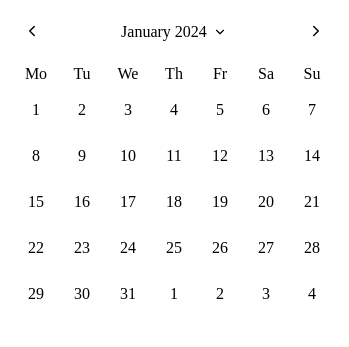
Calendar › year / month views › pages years twelve at a time and years one at a time in month view
The image size is (349, 347).
Click the button with aria-label "Choose year" at (174, 32), box [121,23,227,41]
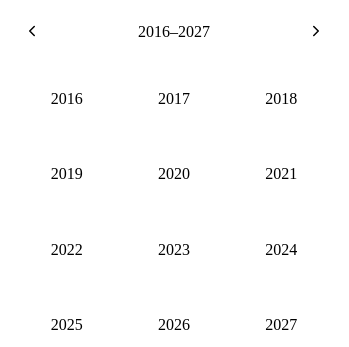
Click the button named "Next years" at (316, 32), box [300,16,332,48]
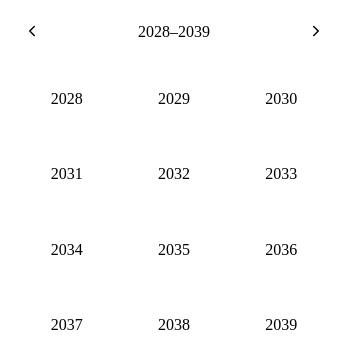
Check: the text "2028–2039" is shown, box [138,23,210,41]
Click the button named "Previous years" at (32, 32), box [16,16,48,48]
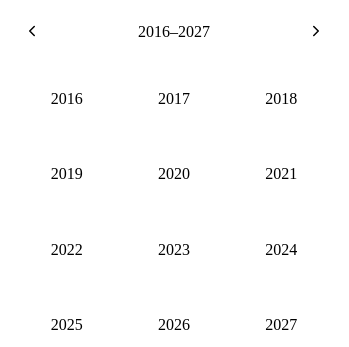
Check: the text "2016–2027" is shown, box [138,23,210,41]
Click the button "2024" at (281, 250), box [231,215,332,284]
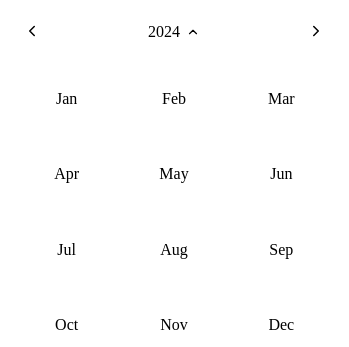
Click the button named "Next year" at (316, 32), box [300,16,332,48]
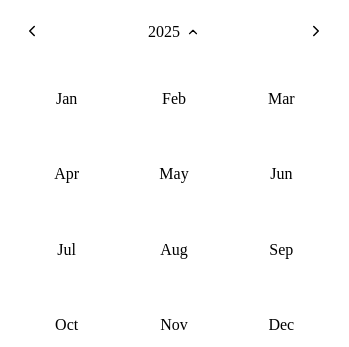
Check: the button named "Choose year, currently 2025" is shown, box [148,23,200,41]
